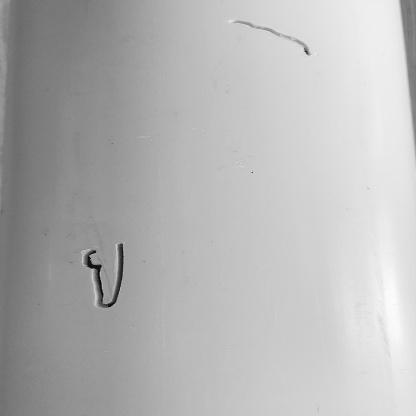fengxi: (78, 242, 126, 310), (227, 18, 311, 56)
